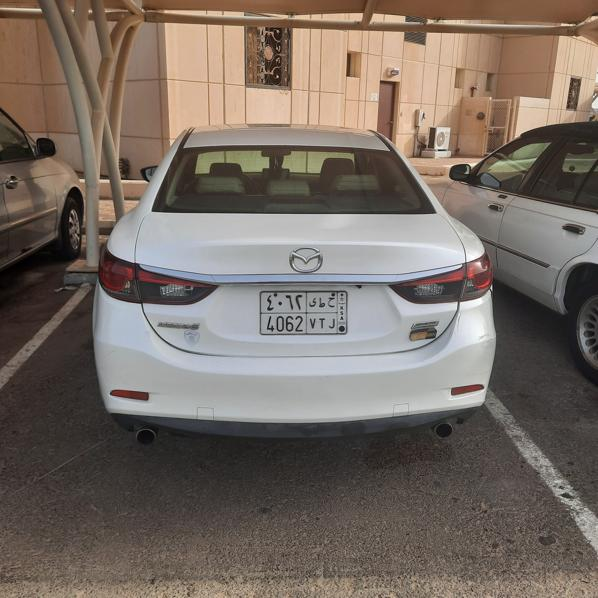numberplate: (260, 290, 348, 334)
